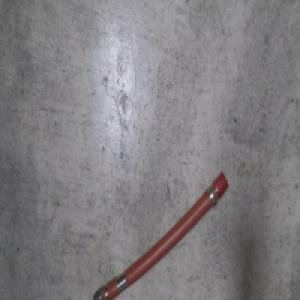Hose: (91, 166, 229, 300)
